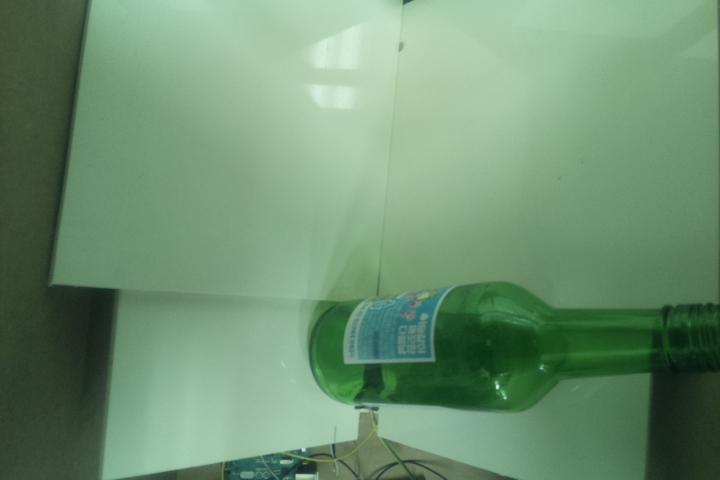soju: (308, 279, 720, 417)
